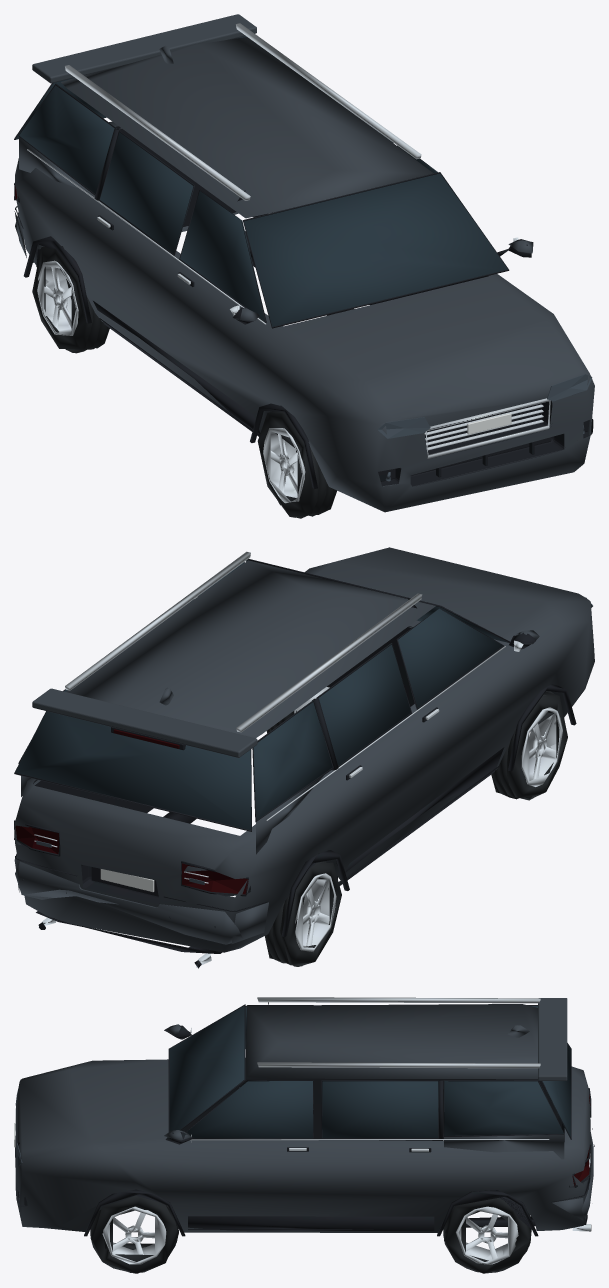
File: car-suv-charcoal.glb
3 renders of one model, top to bottom at view 1: azimuth 30°, elevation 25°; view 2: azimuth 150°, elevation 25°; view 3: azimuth 270°, elevation 25°, orthographic. The views are drawn at different scales.
Parts seen in each view (by area): view 1: Aerodynamic mirror painted cap, Front side door glass, Aerodynamic mirror lower housing, 107 reused Alloy_five_spoke_rim, 107 reused Sculpted_tyre, Clear reversing lens insert; view 2: Aerodynamic mirror painted cap, Front side door glass, Aerodynamic mirror lower housing, 107 reused Alloy_five_spoke_rim, 107 reused Sculpted_tyre, Flush corner wrapping ruby lamp lens, Front license plate; view 3: Aerodynamic mirror painted cap, Front side door glass, Aerodynamic mirror lower housing, 107 reused Alloy_five_spoke_rim, 107 reused Sculpted_tyre.
Part boxes in pixels (x1=…): Aerodynamic mirror painted cap: x1=14, y1=14, x2=594, y2=512; Front side door glass: x1=15, y1=36, x2=507, y2=326; Aerodynamic mirror lower housing: x1=14, y1=83, x2=593, y2=488; 107 reused Alloy_five_spoke_rim: x1=27, y1=23, x2=550, y2=503; 107 reused Sculpted_tyre: x1=32, y1=212, x2=336, y2=518; Clear reversing lens insert: x1=377, y1=374, x2=592, y2=481; Aerodynamic mirror painted cap: x1=14, y1=547, x2=594, y2=952; Front side door glass: x1=15, y1=560, x2=507, y2=829; Aerodynamic mirror lower housing: x1=14, y1=559, x2=576, y2=968; 107 reused Alloy_five_spoke_rim: x1=34, y1=551, x2=562, y2=967; 107 reused Sculpted_tyre: x1=265, y1=691, x2=567, y2=966; Flush corner wrapping ruby lamp lens: x1=15, y1=729, x2=248, y2=894; Front license plate: x1=100, y1=869, x2=154, y2=892; Aerodynamic mirror painted cap: x1=15, y1=998, x2=593, y2=1232; Front side door glass: x1=169, y1=1005, x2=570, y2=1138; Aerodynamic mirror lower housing: x1=15, y1=1002, x2=594, y2=1236; 107 reused Alloy_five_spoke_rim: x1=15, y1=997, x2=590, y2=1264; 107 reused Sculpted_tyre: x1=90, y1=1138, x2=531, y2=1273.
Size of the model in its own units: 7.3 by 5.97 by 15.6.
8 materials, 8 textured.
